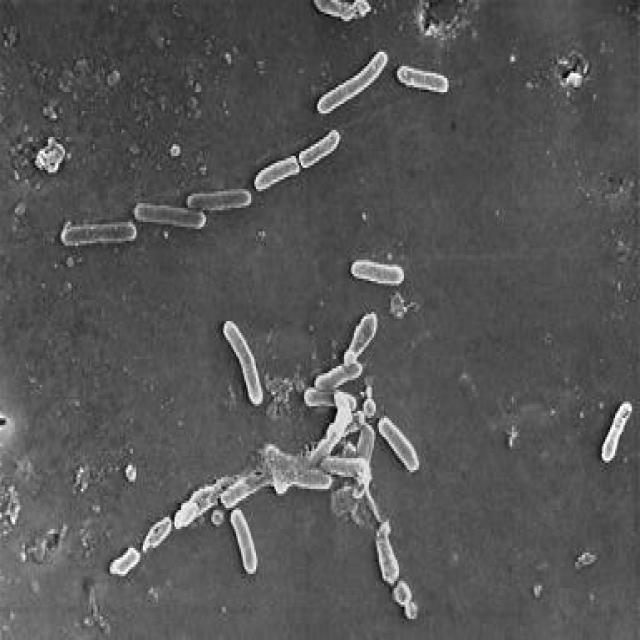Rod_bacteria: (108, 309, 422, 621)
